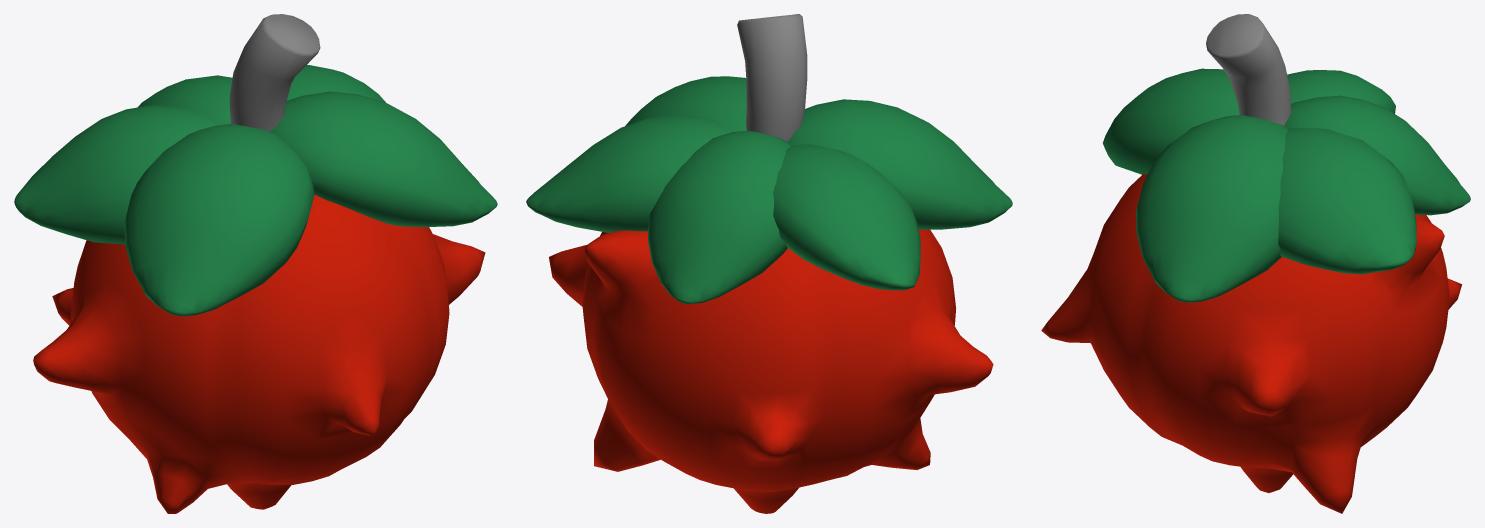
The model's file is Item_BoombFruit2.fbx.
3 views of the same model, side by side, from view 1: azimuth 30°, elevation 25°; view 2: azimuth 150°, elevation 25°; view 3: azimuth 270°, elevation 25° (orthographic). The views are drawn at different scales.
Parts seen in each view (by area): view 1: BoombFruit, BoombLeaf1, BoombLeaf4, BoombLeaf3, BoombStem, BoombLeaf005, BoombLeaf2; view 2: BoombFruit, BoombLeaf005, BoombLeaf3, BoombLeaf1, BoombLeaf2, BoombStem, BoombLeaf4; view 3: BoombFruit, BoombLeaf4, BoombLeaf2, BoombLeaf005, BoombLeaf1, BoombStem, BoombLeaf3.
Part boxes in pixels (x1=…): BoombFruit: x1=33, y1=194, x2=485, y2=513; BoombLeaf1: x1=124, y1=124, x2=314, y2=316; BoombLeaf4: x1=270, y1=91, x2=497, y2=227; BoombLeaf3: x1=14, y1=105, x2=218, y2=244; BoombStem: x1=229, y1=14, x2=320, y2=131; BoombLeaf005: x1=137, y1=75, x2=232, y2=125; BoombLeaf2: x1=286, y1=65, x2=385, y2=102; BoombFruit: x1=549, y1=229, x2=993, y2=513; BoombLeaf005: x1=648, y1=131, x2=790, y2=303; BoombLeaf3: x1=773, y1=144, x2=920, y2=290; BoombLeaf1: x1=787, y1=99, x2=1012, y2=229; BoombLeaf2: x1=526, y1=114, x2=737, y2=232; BoombStem: x1=737, y1=14, x2=807, y2=141; BoombLeaf4: x1=625, y1=76, x2=746, y2=131; BoombFruit: x1=1041, y1=174, x2=1461, y2=513; BoombLeaf4: x1=1136, y1=115, x2=1287, y2=302; BoombLeaf2: x1=1278, y1=128, x2=1416, y2=274; BoombLeaf005: x1=1284, y1=95, x2=1470, y2=215; BoombLeaf1: x1=1103, y1=68, x2=1239, y2=174; BoombStem: x1=1206, y1=14, x2=1291, y2=125; BoombLeaf3: x1=1287, y1=70, x2=1395, y2=113.
Size of the model in its own units: 91.09 by 96.12 by 78.84.
